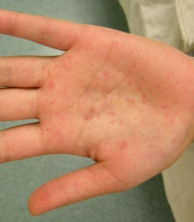SJS-TEN: (18, 28, 194, 179)
